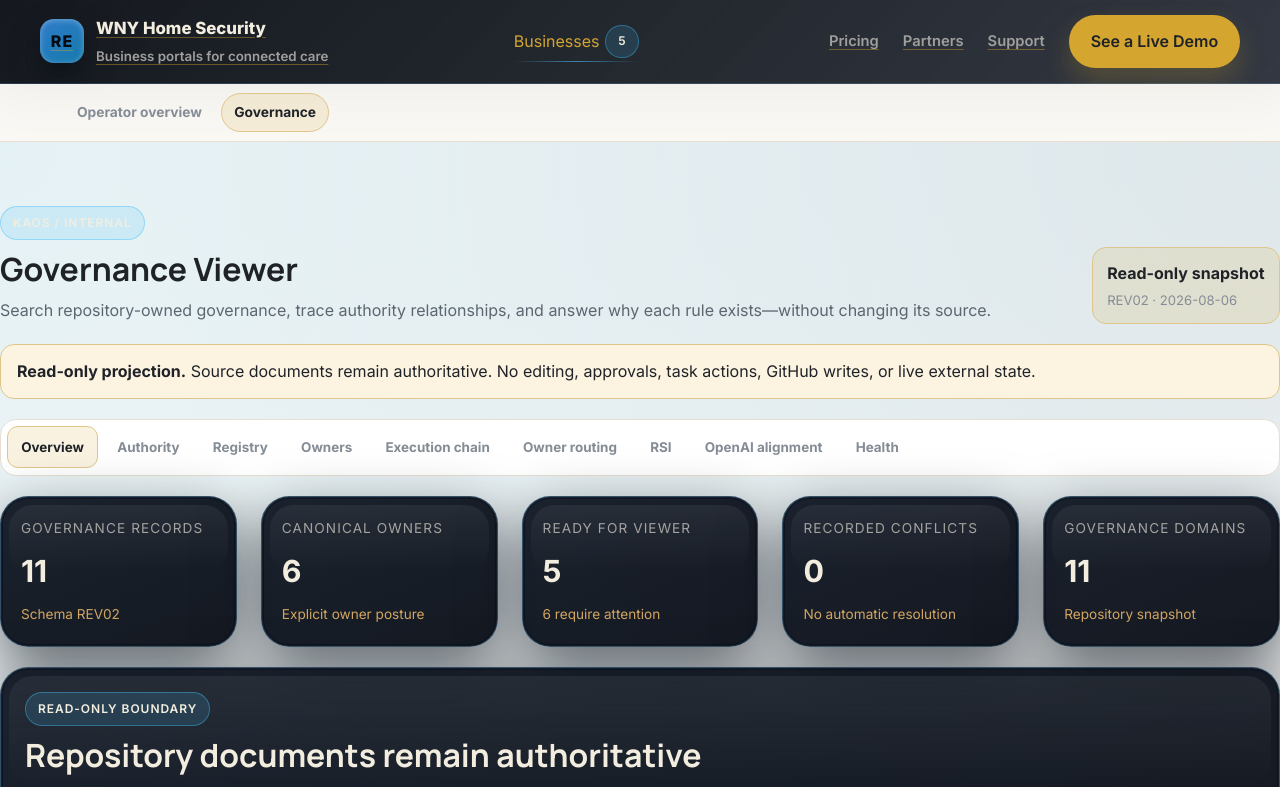
Scenario: Governance Viewer route and read-only interactions › searches title, path, and domain and provides a no-results state
The width and height of the screenshot is (1280, 787).
Step 1. Click the tab "Registry" → [240, 447], box [199,426,282,468]
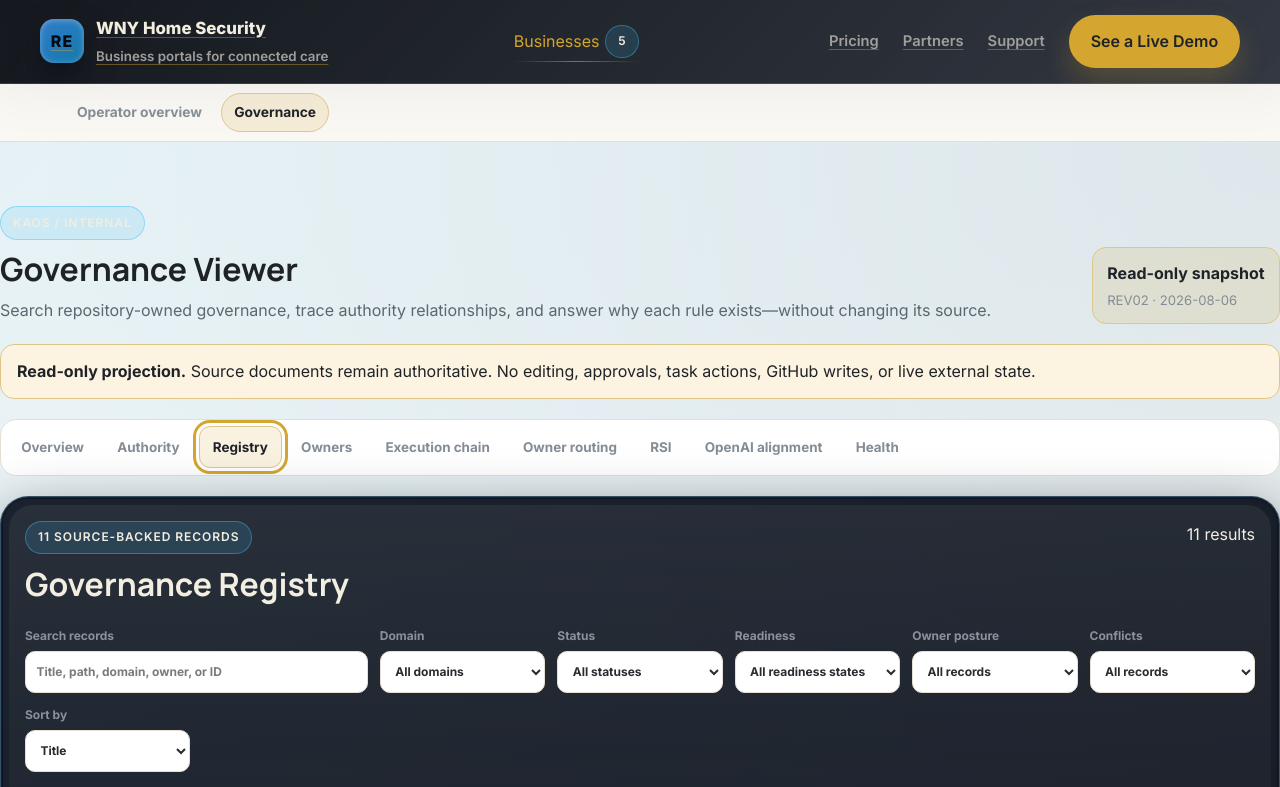
Step 2. Type "Runtime Contracts" into the search field labelled "Search records" → [196, 672], box [25,651,368,693]
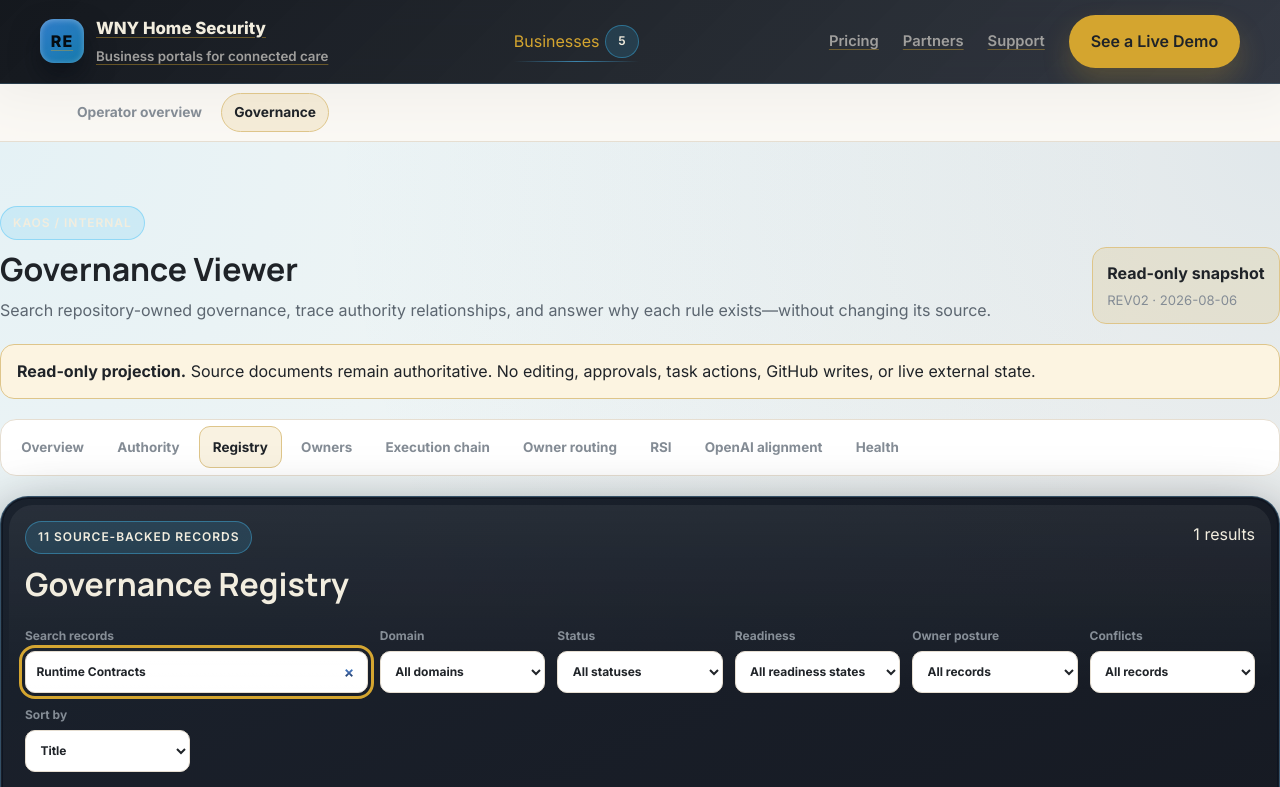
Now the text "1 results" is shown, box [1193,521,1255,548]
Step 3. Replace the text in the search field labelled "Search records" with "docs/system/step-current.md" → [196, 672], box [25,651,368,693]
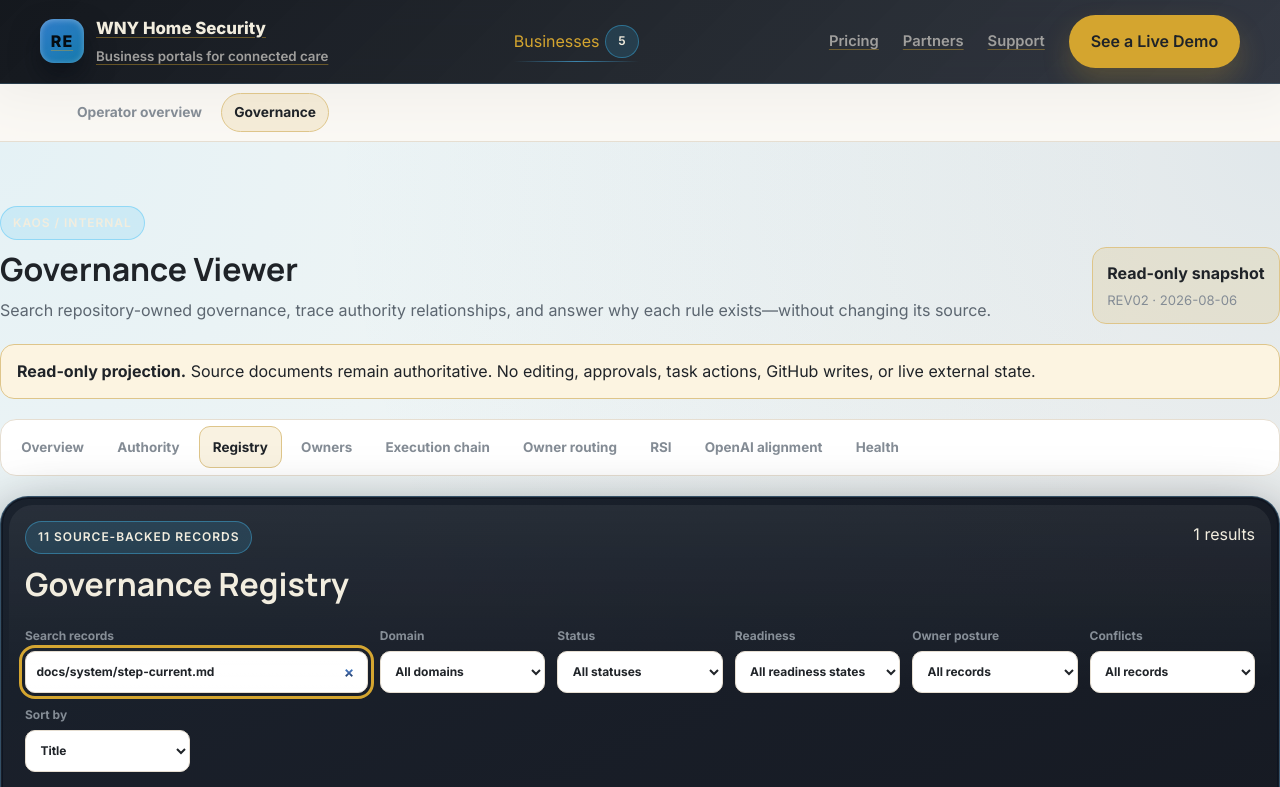
Step 4. Replace the text in the search field labelled "Search records" with "RSI / Execution Evidence" → [196, 672], box [25,651,368,693]
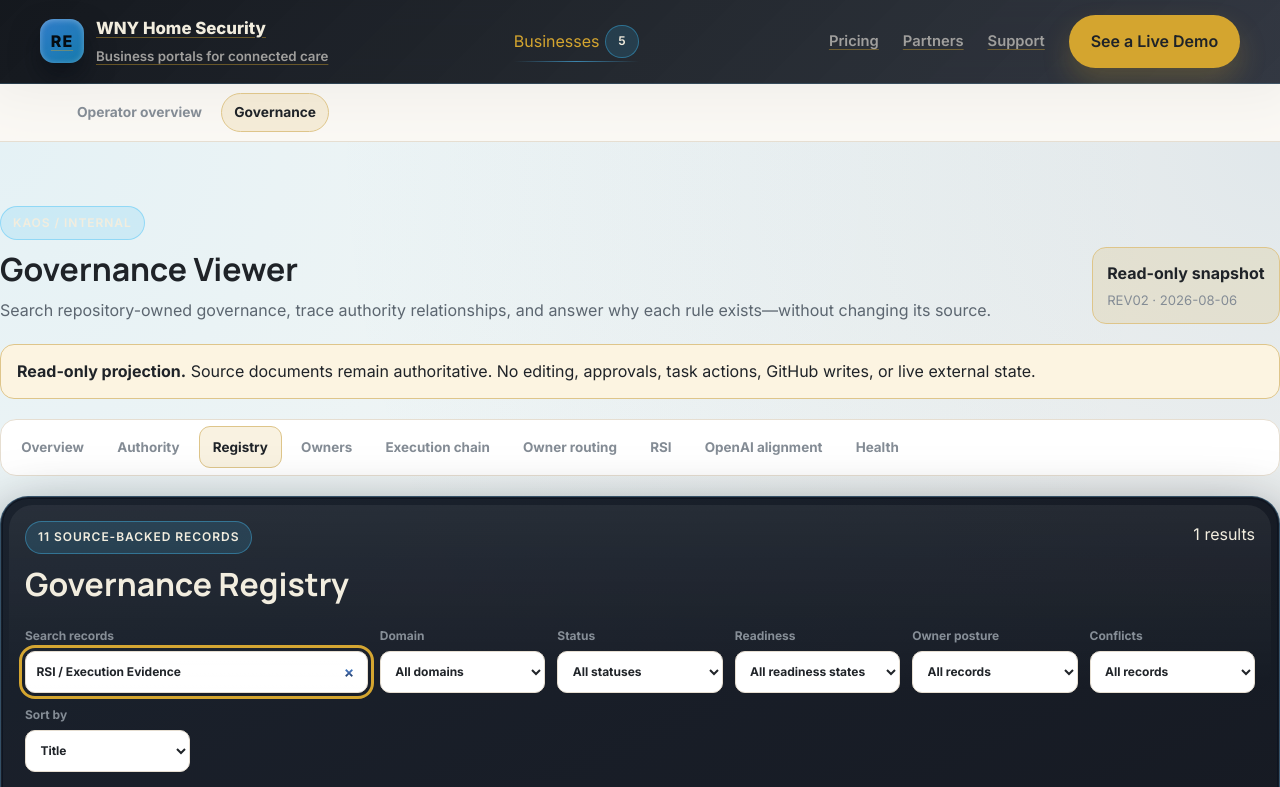
Step 5. Replace the text in the search field labelled "Search records" with "no such governance record" → [196, 672], box [25,651,368,693]
(page scrolled)
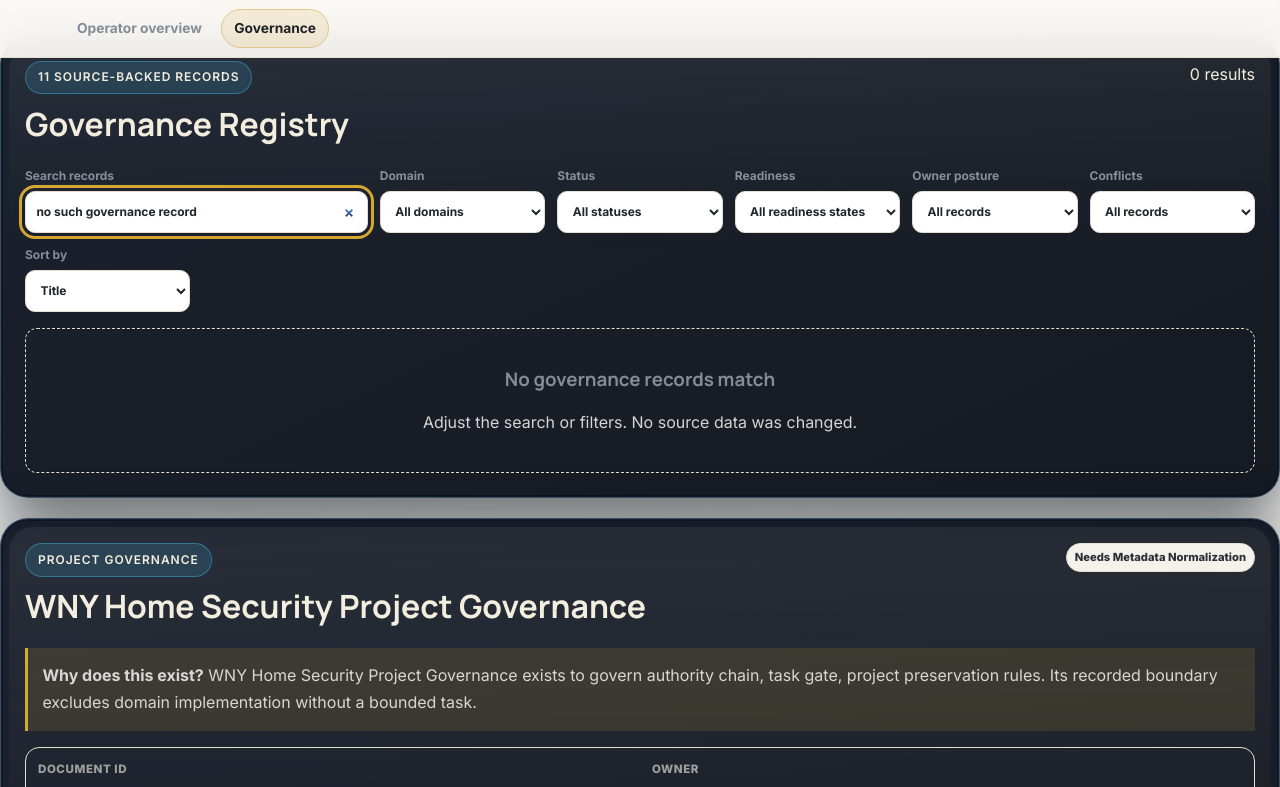
Now the message shows "No governance records match", box [505,366,775,392]
